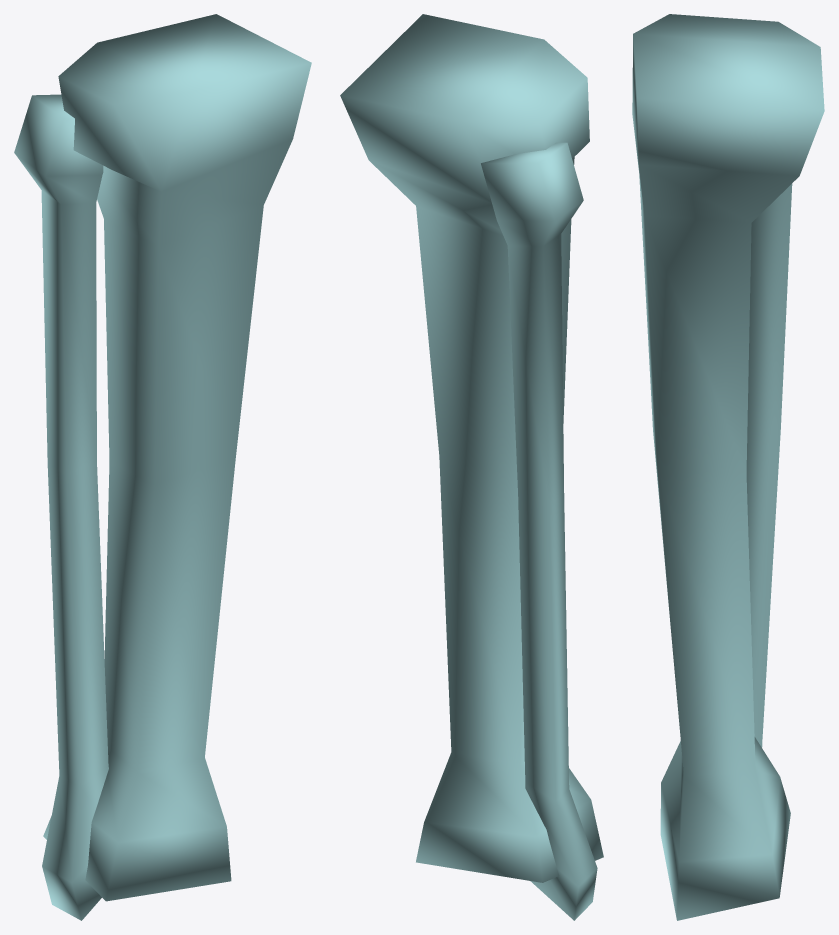
File: Skelly_shin.R.fbx
The picture shows the model from 3 angles, left to right: view 1: azimuth 30°, elevation 25°; view 2: azimuth 150°, elevation 25°; view 3: azimuth 270°, elevation 25°; orthographic projection. The views are drawn at different scales.
Parts seen in each view (by area): view 1: Skelly_shin.R; view 2: Skelly_shin.R; view 3: Skelly_shin.R.
Part boxes in pixels (x1=…): Skelly_shin.R: x1=14, y1=14, x2=311, y2=920; Skelly_shin.R: x1=340, y1=14, x2=603, y2=920; Skelly_shin.R: x1=632, y1=14, x2=824, y2=920.
Bounding box in the file's own units: 11.13 × 41.04 × 8.22.
